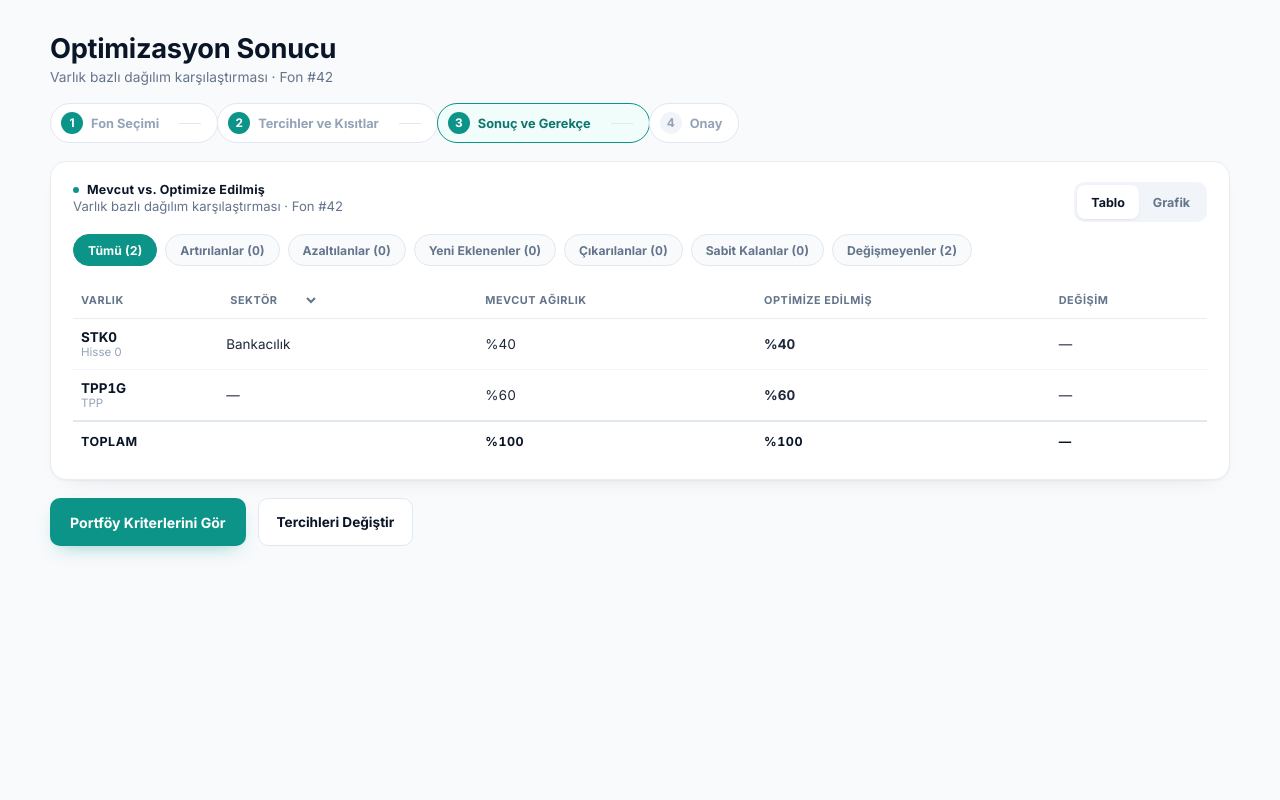
Test: OptimizationResultPage › kısıt metriği kırmızıysa Portföyü Onayla ve Güncelle butonunu devre dışı bırakır
Click the button "Portföy Kriterlerini Gör".
click(148, 522)  # box [50, 498, 246, 546]
(page scrolled)
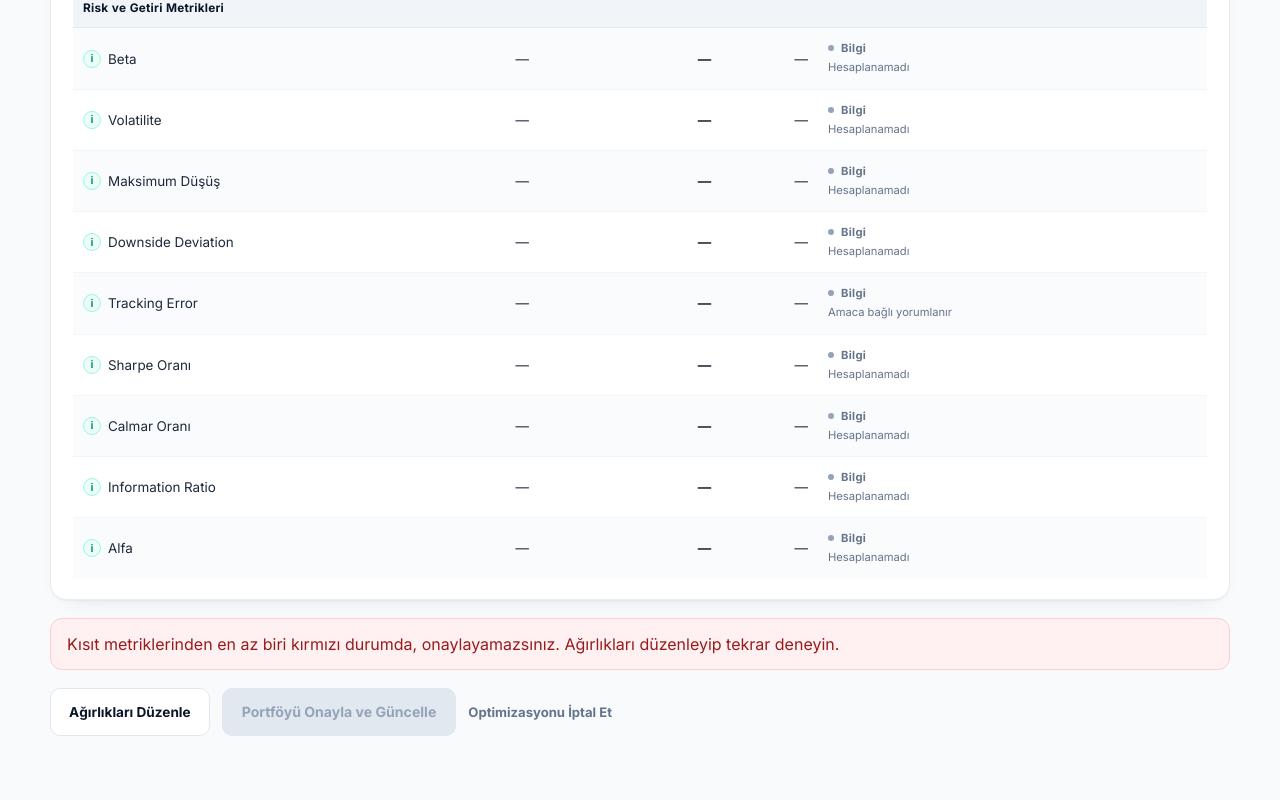
Expected: the button "Portföyü Onayla ve Güncelle" is disabled, [222, 688, 456, 736]
Expected: the text "Kısıt metriklerinden en az biri kırmızı durumda" is shown, [67, 634, 839, 654]
